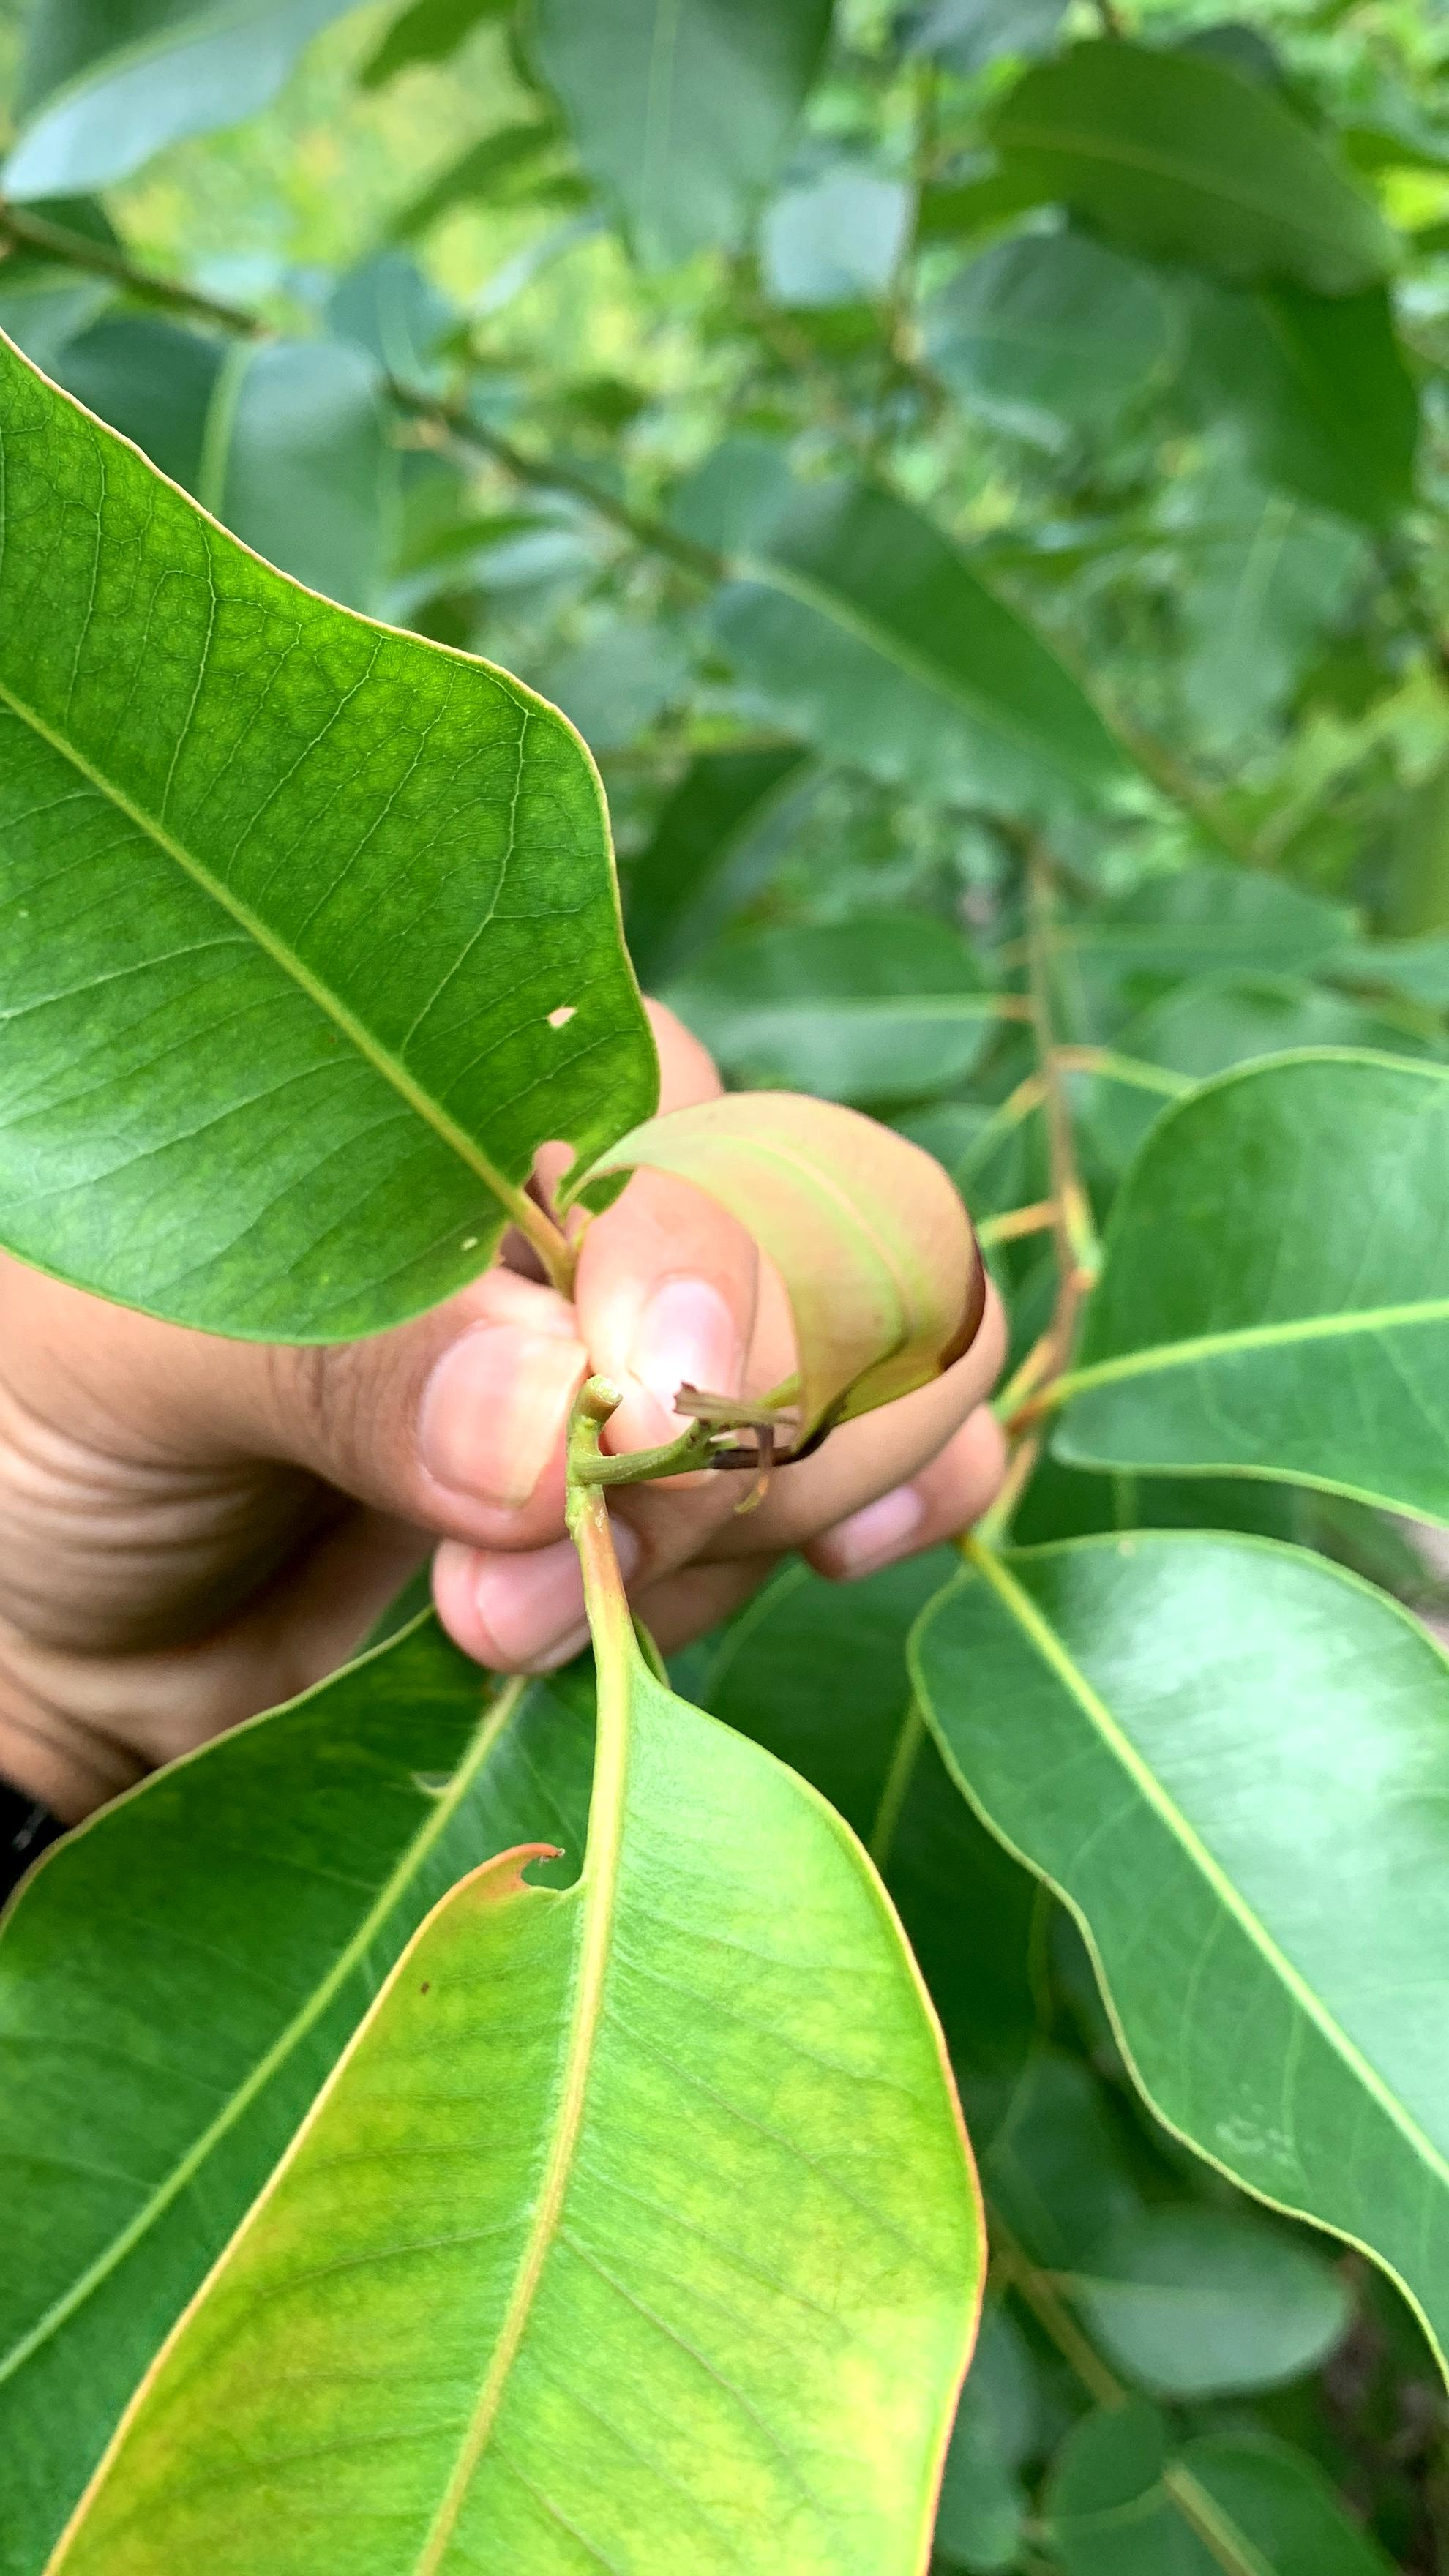Helopeltis-Withered Sprout: (494, 1005, 1085, 1665)
